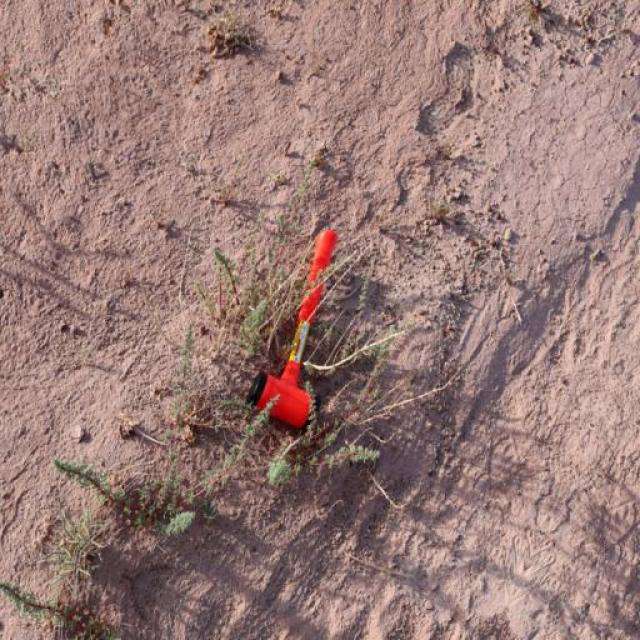mallet: (248, 227, 342, 428)
